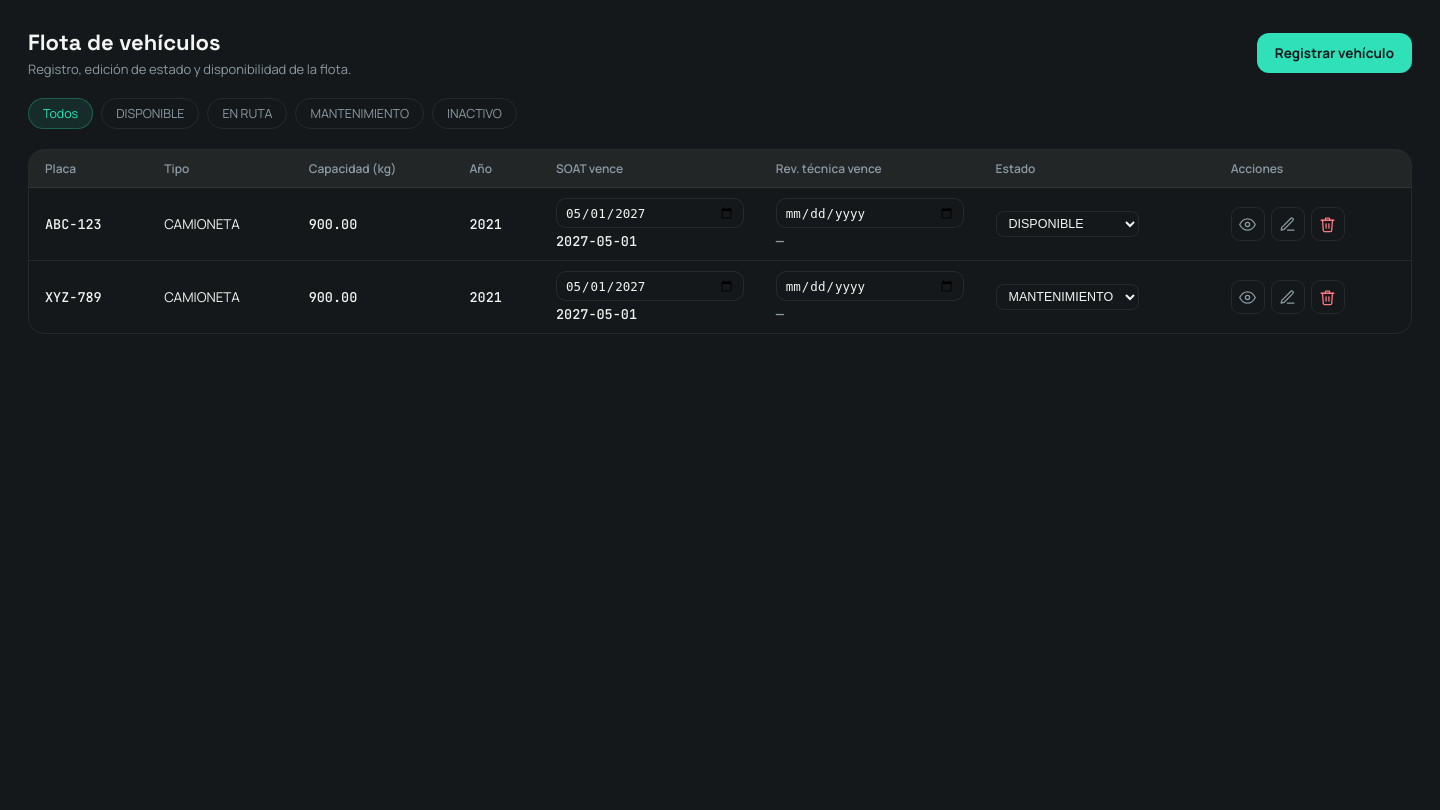
Scenario: Flota: filtros, estado, documentos y errores › un cambio rechazado por la API se muestra como alerta
Select "INACTIVO" in the dropdown named "Estado del vehículo ABC-123". click: (1067, 224)
box: top-left (996, 211), bottom-right (1138, 237)
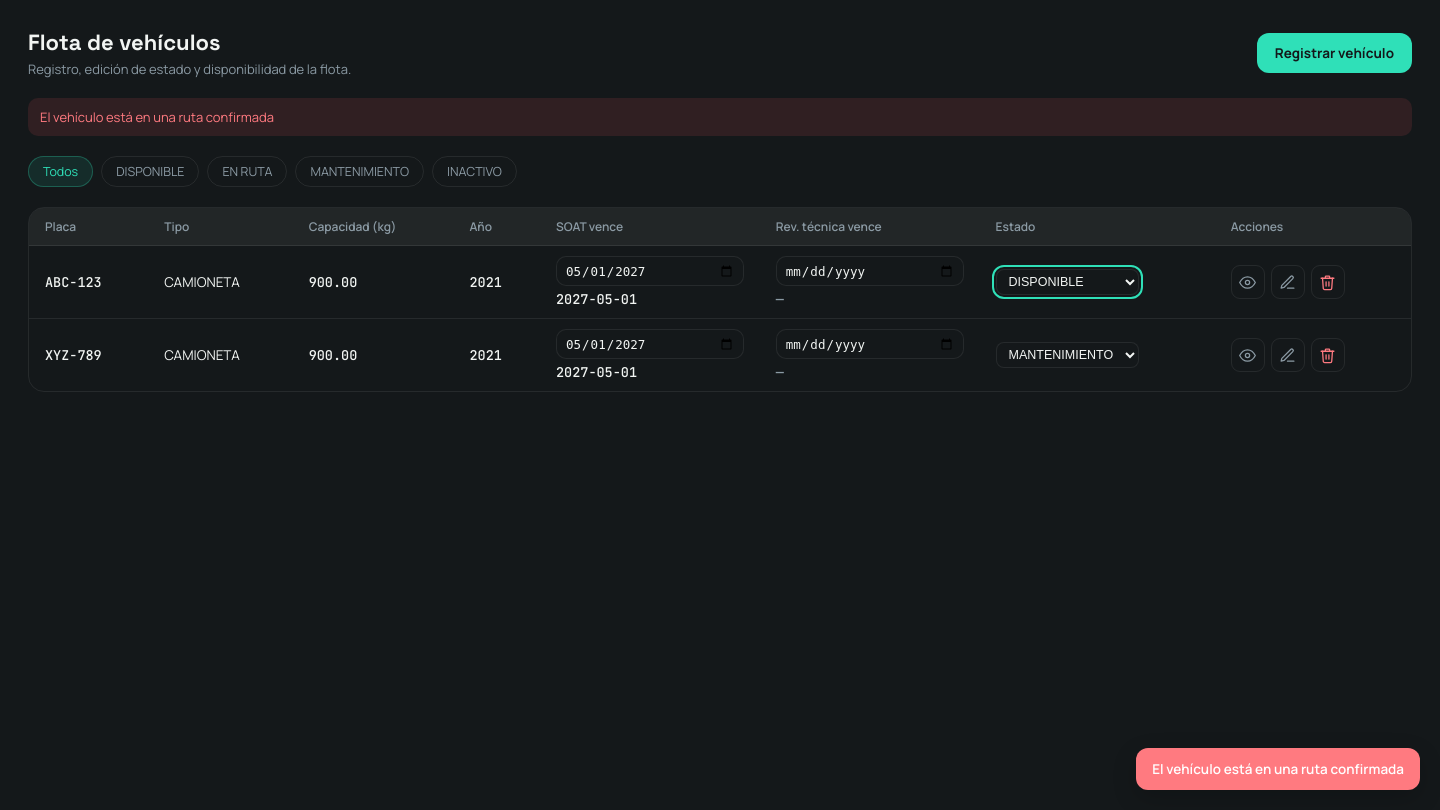
Now the message reads "El vehículo está en una ruta confirmada", box top-left (40, 108), bottom-right (274, 126)
